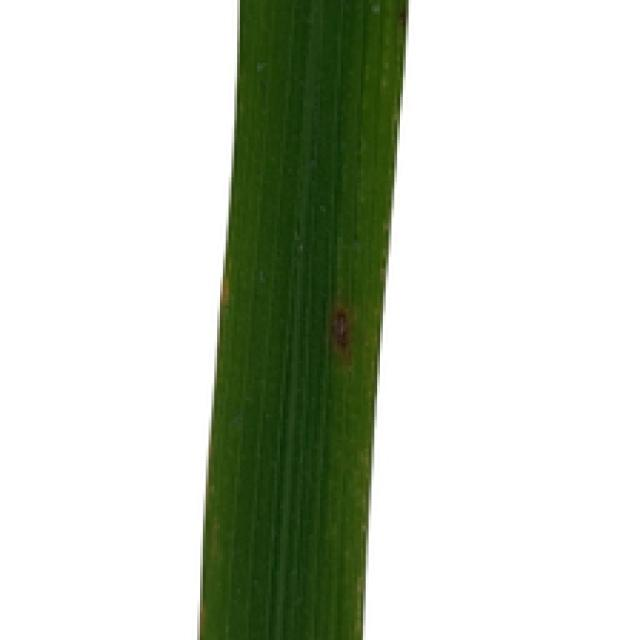Rice___Rice_Blast: (199, 1, 410, 637)
